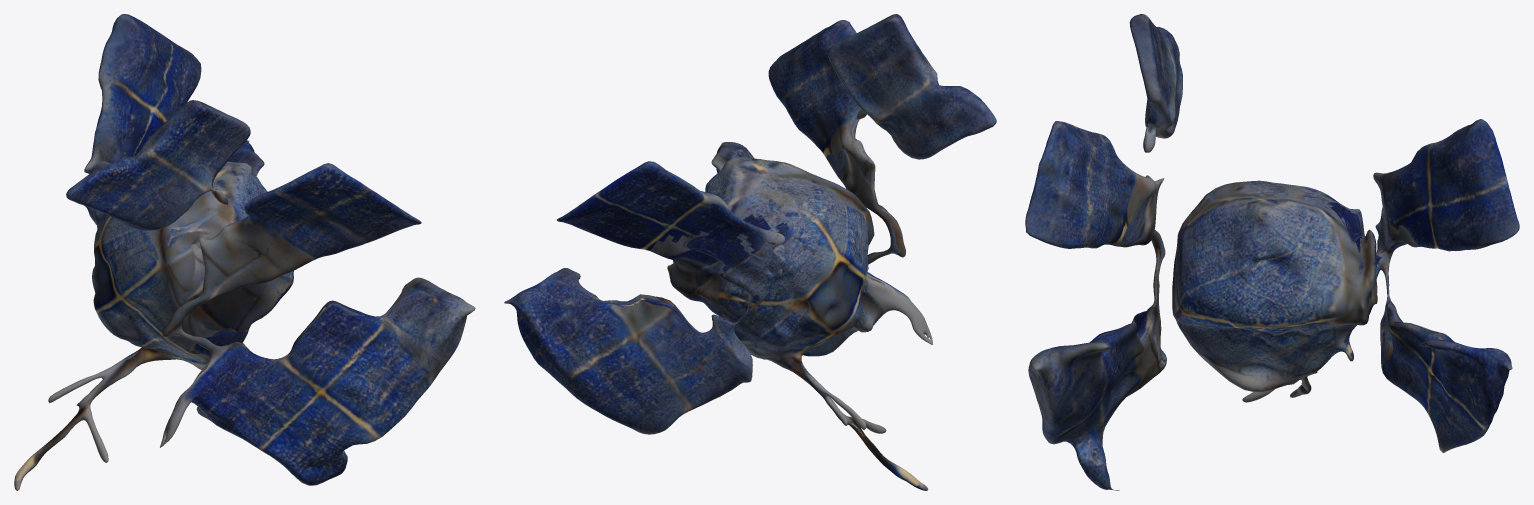
File: 04bfaeefd640_broken_satellite_mi.fbx
3 views of the same model, side by side, from view 1: azimuth 30°, elevation 25°; view 2: azimuth 150°, elevation 25°; view 3: azimuth 270°, elevation 25° (orthographic). The views are drawn at different scales.
Parts seen in each view (by area): view 1: mesh; view 2: mesh; view 3: mesh.
Boxes of the visible parts, x1,y1,x2,y2 form: mesh: (14,14,475,490); mesh: (504,14,996,490); mesh: (1025,14,1519,490).
Bounding box in the file's own units: 84.6 × 97.06 × 99.7.
